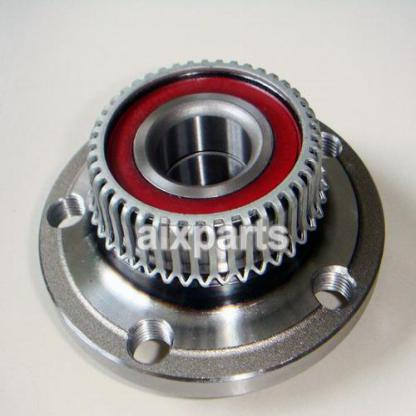FOD: (84, 53, 332, 283)
